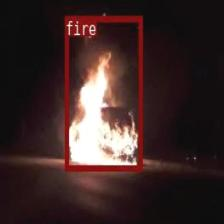fire: (64, 16, 142, 170)
